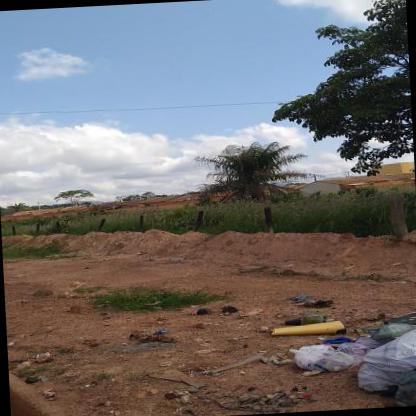lixo: (260, 312, 415, 413)
